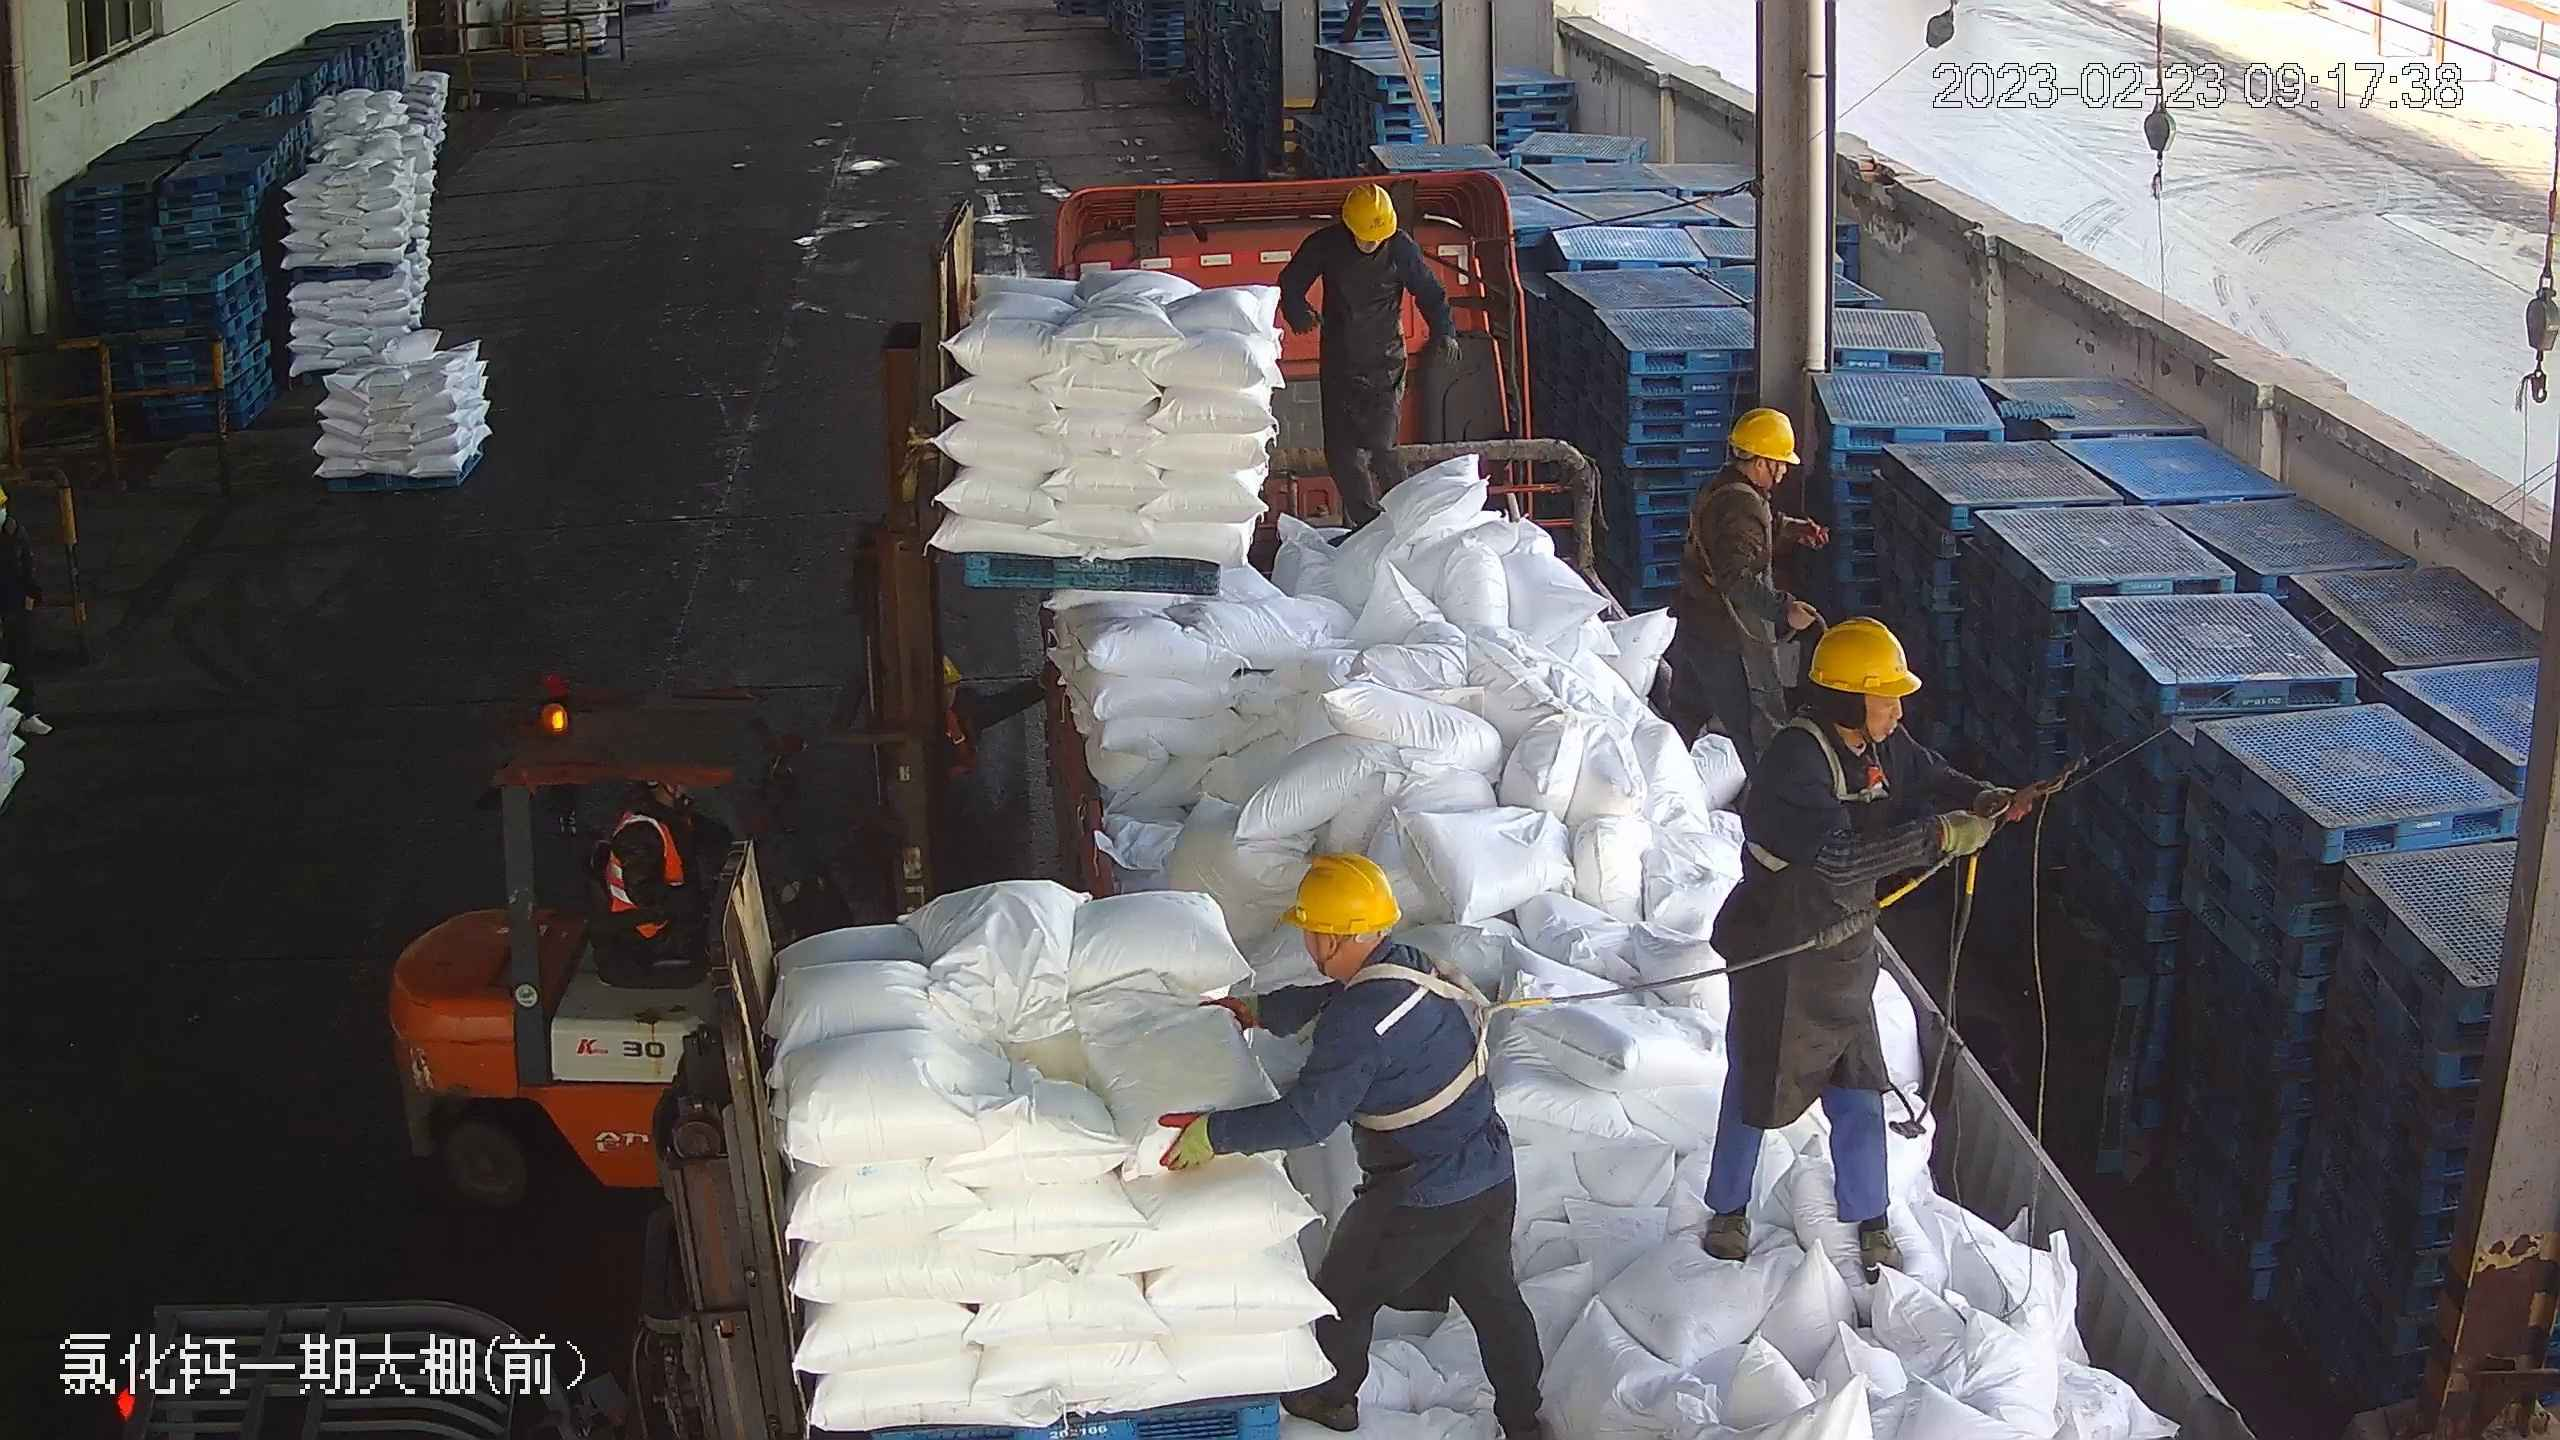belt: (1340, 962, 1545, 1133), (1684, 482, 1790, 585), (1799, 720, 1916, 805)
head: (1266, 849, 1457, 1086), (1767, 614, 1955, 828), (1693, 404, 1810, 537), (1299, 181, 1423, 289)
helmet: (1275, 849, 1400, 933), (1804, 612, 1925, 693), (1724, 403, 1802, 459), (1339, 180, 1400, 242)
people: (1166, 853, 1549, 1440), (1695, 620, 1994, 1286), (1272, 182, 1456, 536), (1657, 403, 1834, 769)
truck: (978, 177, 2257, 1418)
